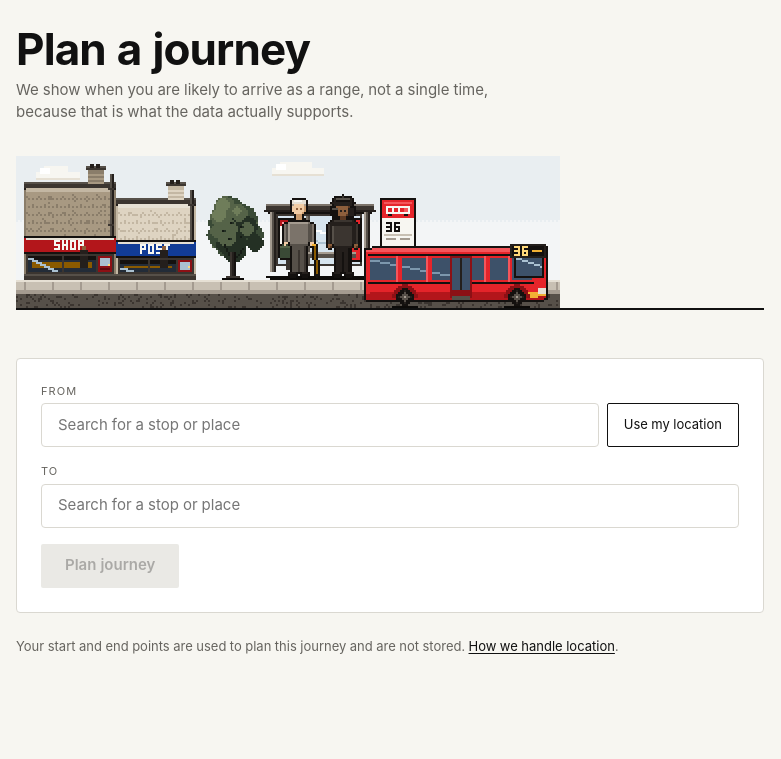
Scenario: JourneyPage › shows arrival as a range, never a single time
Type "leeds" into the search field labelled "From" at (320, 425), box left=41, top=403, right=599, bottom=447
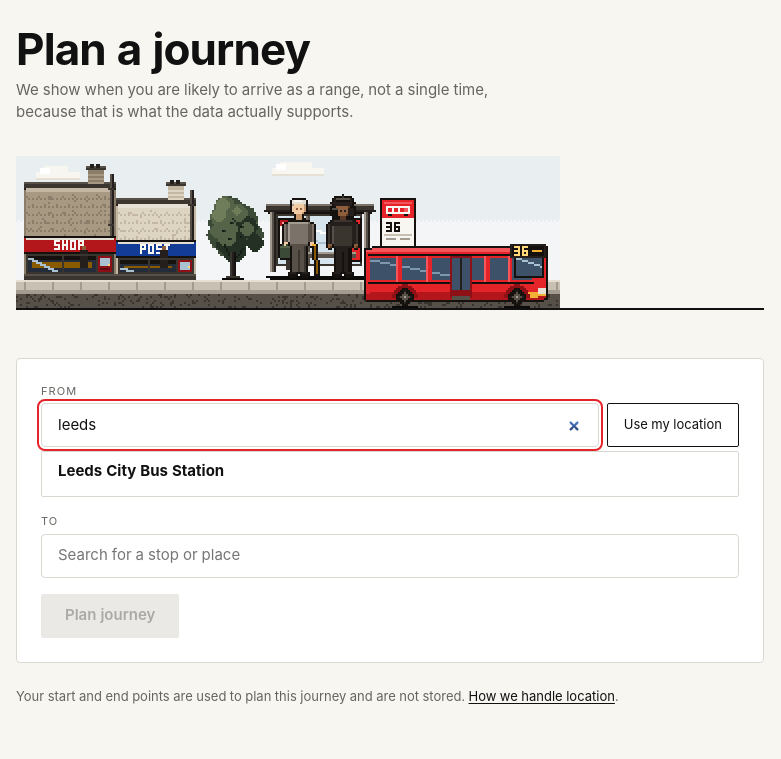
Click the button "Leeds City Bus Station" at (141, 471), box left=42, top=452, right=738, bottom=496
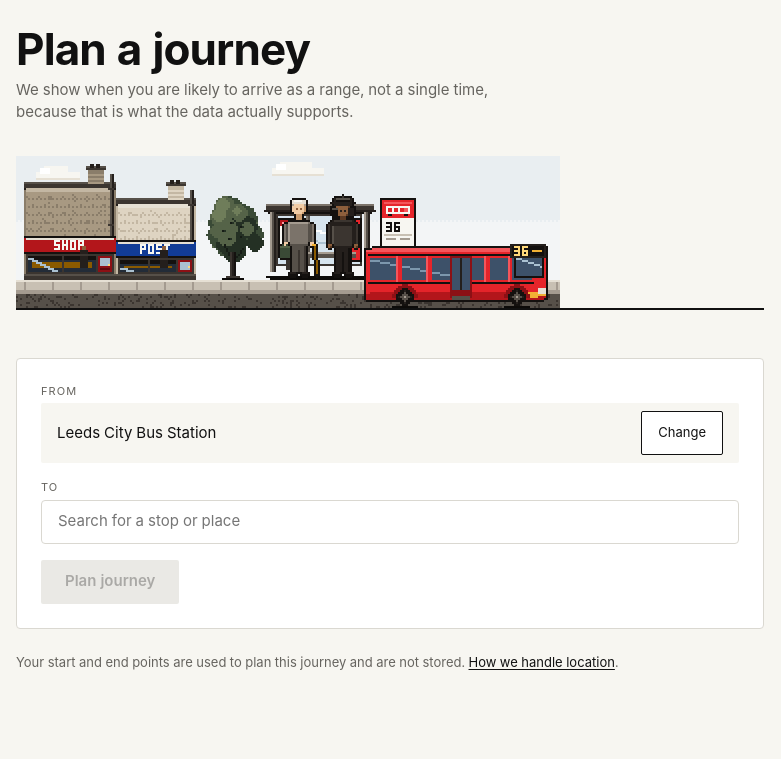
Type "leeds" into the search field labelled "To" at (390, 522), box left=41, top=500, right=739, bottom=544
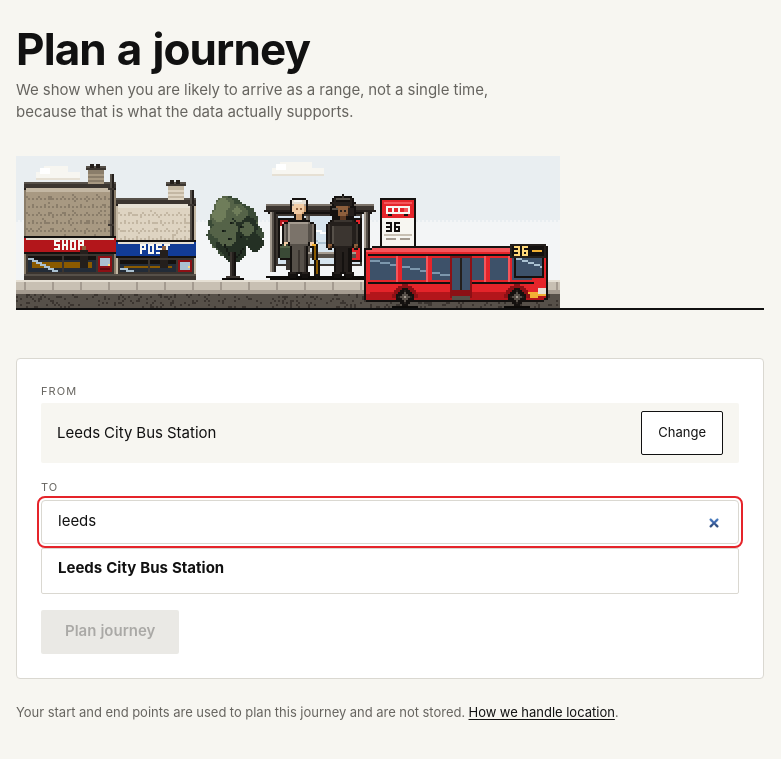
Click the button "Leeds City Bus Station" at (141, 567), box left=42, top=549, right=738, bottom=593
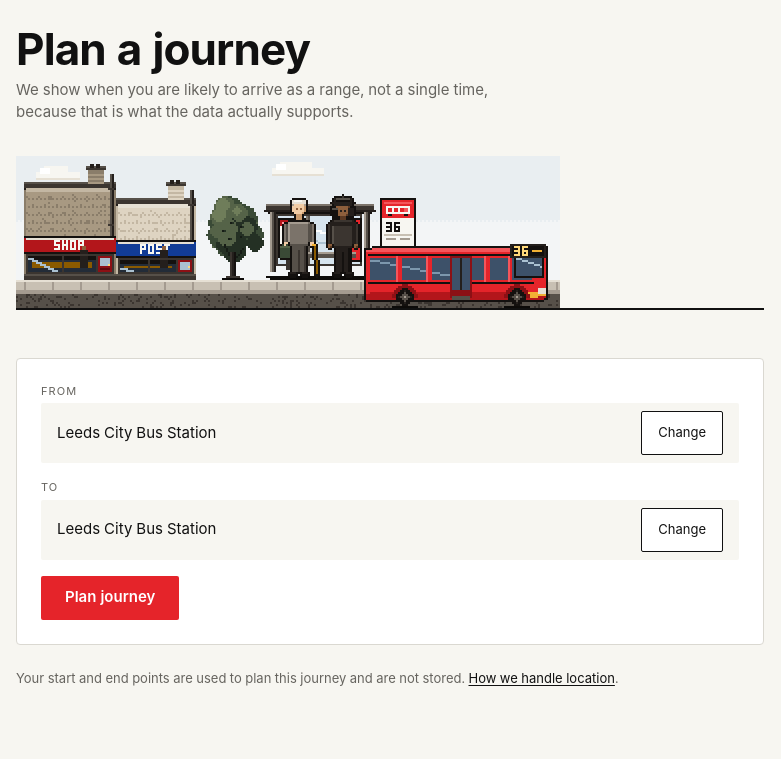
Click the button "Plan journey" at (110, 598), box left=41, top=576, right=179, bottom=620
(page scrolled)
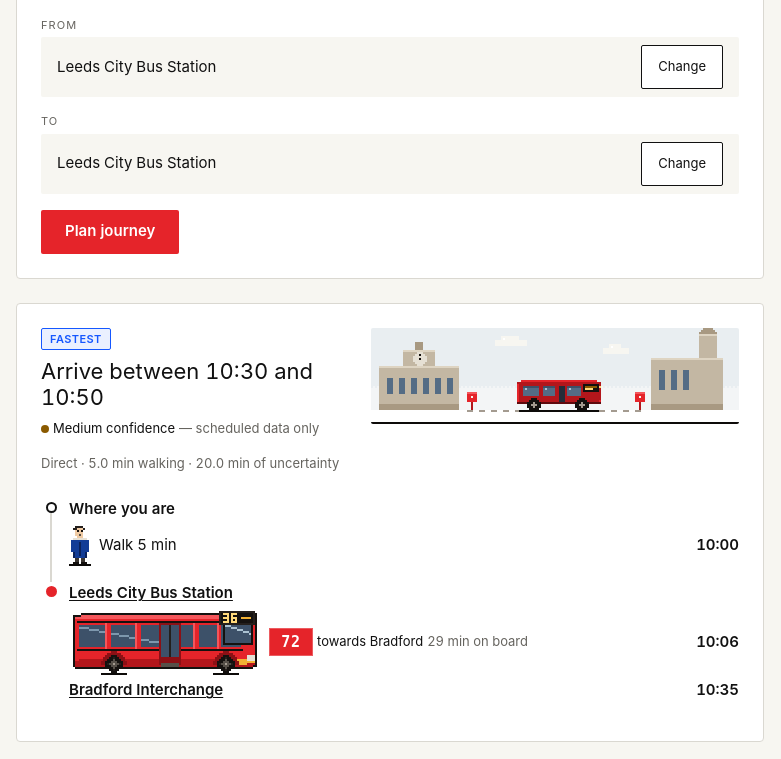
expect the text "Arrive between 10:30 and 10:50" is shown: met, box left=41, top=358, right=355, bottom=411
